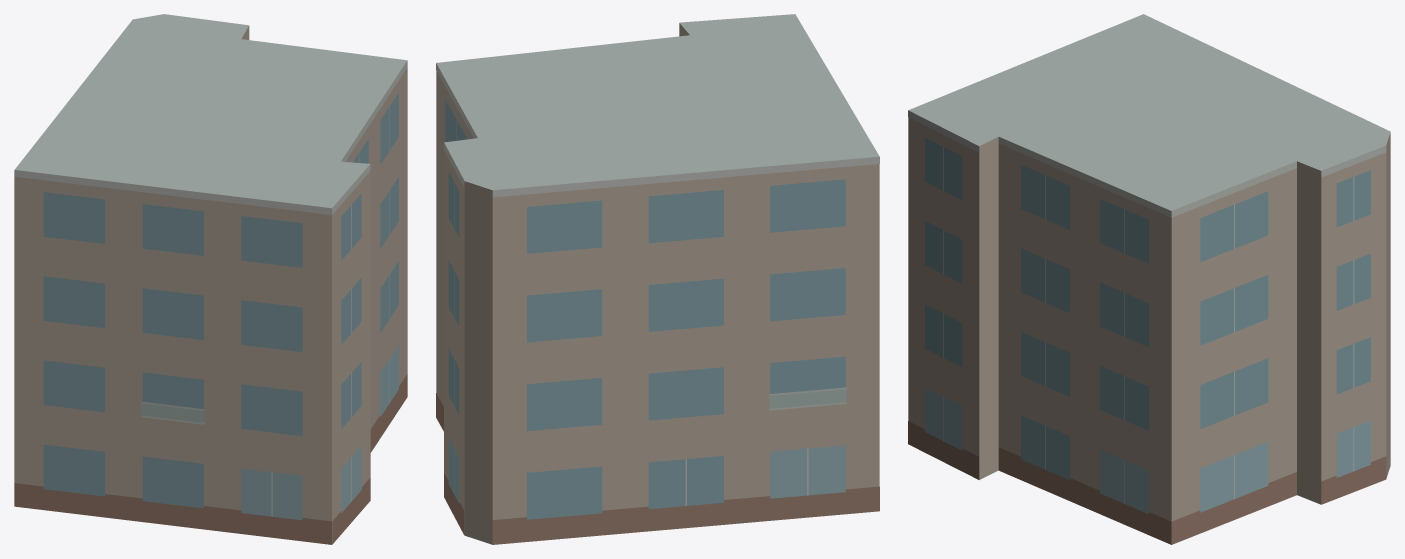
The model's file is survey-upis-32597793.glb.
The picture shows the model from 3 angles, left to right: view 1: azimuth 30°, elevation 25°; view 2: azimuth 150°, elevation 25°; view 3: azimuth 270°, elevation 25°; orthographic projection. The views are drawn at different scales.
Visible parts, largest first — view 1: survey-upis-32597793.tmp; view 2: survey-upis-32597793.tmp; view 3: survey-upis-32597793.tmp.
Part boxes in pixels (x1=…): survey-upis-32597793.tmp: x1=14, y1=14, x2=407, y2=544; survey-upis-32597793.tmp: x1=436, y1=14, x2=879, y2=544; survey-upis-32597793.tmp: x1=908, y1=14, x2=1390, y2=544.
Size of the model in its own units: 15.26 by 12.05 by 15.8.
